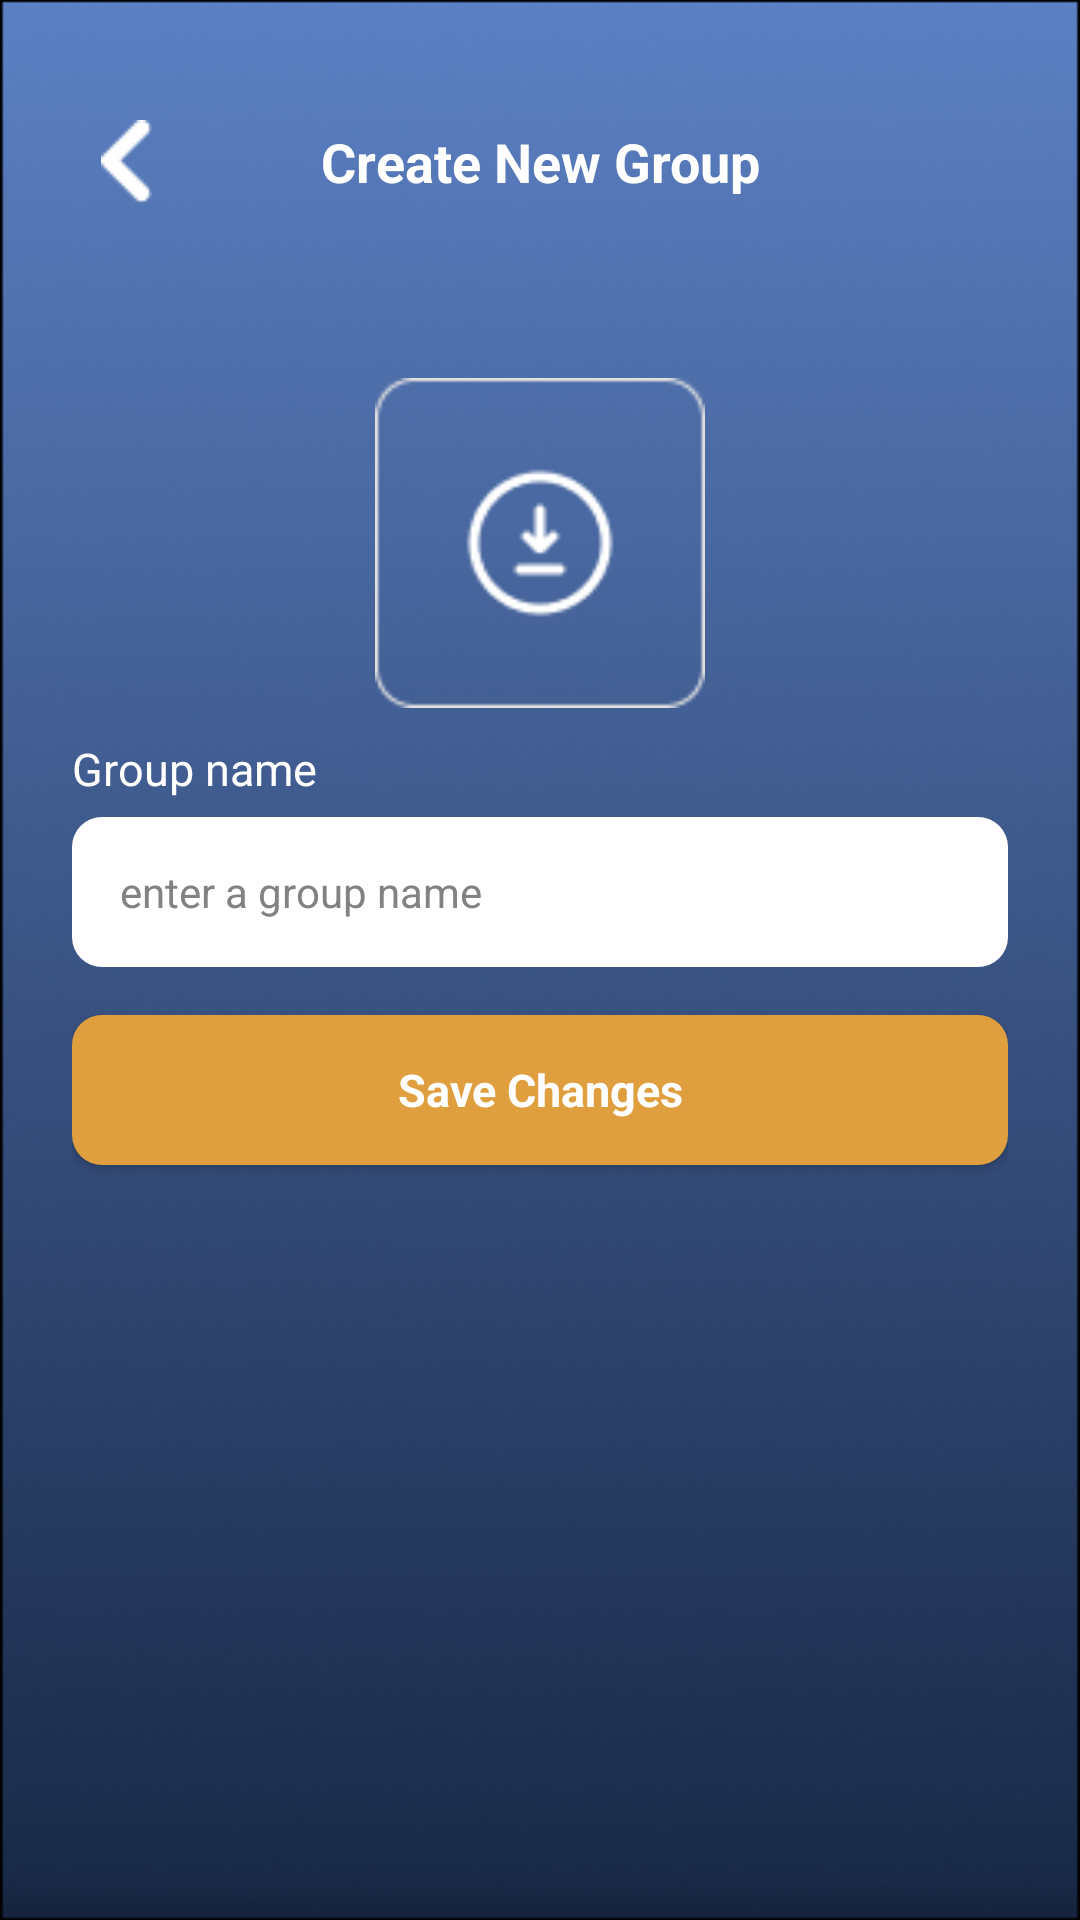

Screen size 1080x1920. Icon name, then its box in pixels as bbox=(x1, y1, x2, y2):
back: bbox=(101, 120, 152, 202)
